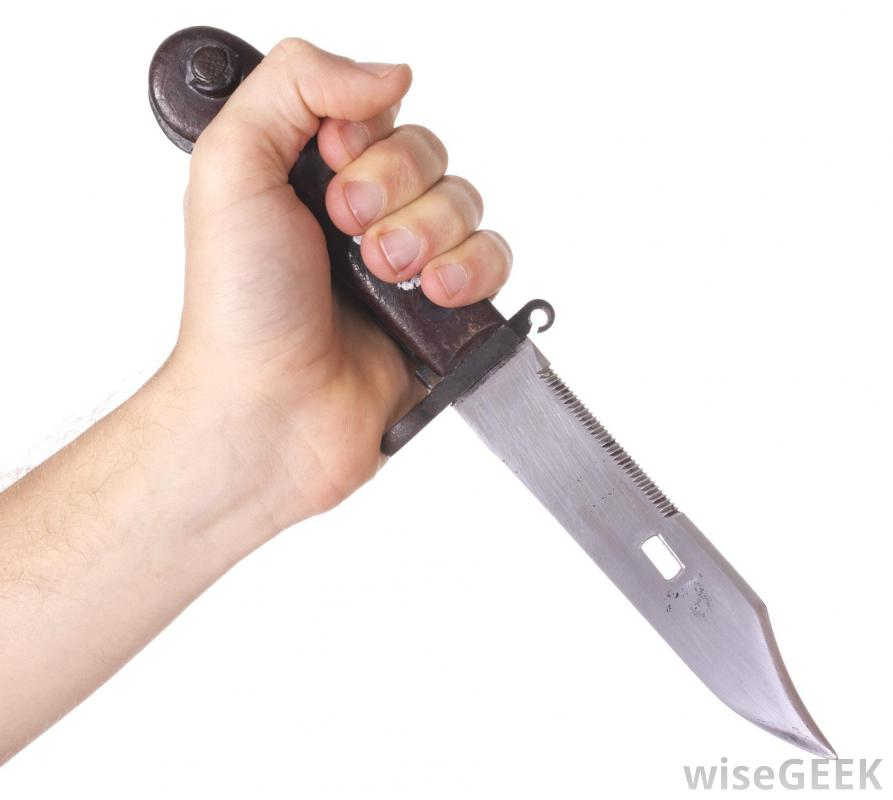knife: (275, 120, 842, 765)
